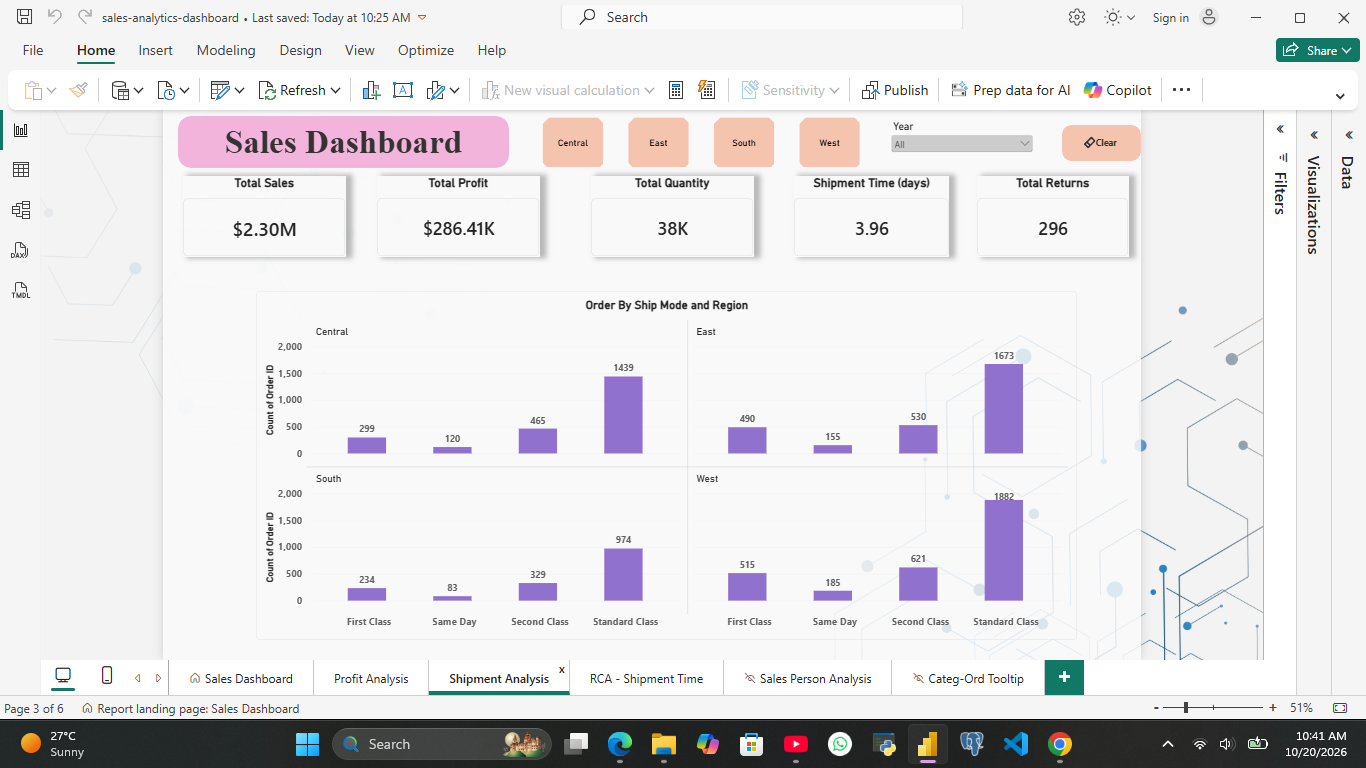

What the dashboard file says about the page in this screenshot:
{"tool":"powerbi","page":{"name":"Shipment Analysis","canvas":[1920,1080],"ordinal":2},"visuals":[{"type":"cardVisual","title":"Total Sales","fields":{"Data":["Sum(Orders.Sales)"]},"box":[39.7,130,319.6,158.7],"z":1000},{"type":"cardVisual","title":"Total Profit","fields":{"Data":["Sum(Orders.Profit)"]},"box":[421,130,319.6,158.7],"z":2000},{"type":"cardVisual","title":"Total Quantity","fields":{"Data":["Sum(Orders.Quantity)"]},"box":[839.8,130,319.6,158.7],"z":3000},{"type":"cardVisual","title":"Shipment Time (days)","fields":{"Data":["Avg(Orders.Shipment Time)"]},"box":[1238.7,130,304.2,158.7],"z":4000},{"type":"cardVisual","title":"Total Returns","fields":{"Data":["CountNonNull(Return_data.Order ID)"]},"box":[1598,130,297.6,158.7],"z":5000},{"type":"advancedSlicerVisual","fields":{"Values":["SalesPerson.Region"]},"box":[704.9,0,704.9,129.6],"z":6000},{"type":"slicer","title":"Year","fields":{"Values":["Orders.Order Date.Variation.Date Hierarchy.Year"]},"box":[1425.6,19.6,286.7,110],"z":7000},{"type":"shape","box":[29.5,11.8,650,102.1],"z":8000},{"type":"actionButton","box":[1765.3,29.5,155.1,70.7],"z":9000},{"type":"columnChart","title":"Order By Ship Mode and Region","fields":{"Category":["Orders.Ship Mode"],"Rows":["Orders.Region"],"Y":["CountNonNull(Orders.Order ID)"]},"box":[181.7,355.1,1612.4,685.4],"z":10001}]}

Visuals, with their boxes on the page's 1920x1080 design canvas (x1, y1, x2, y2). These are canvas units, not pixel positions in the 1366x768 screenshot, which may show the page scaled, cropped or inside an application window:
"Total Sales" cardVisual: [left=40, top=130, right=359, bottom=289]
"Total Profit" cardVisual: [left=421, top=130, right=741, bottom=289]
"Total Quantity" cardVisual: [left=840, top=130, right=1159, bottom=289]
"Shipment Time (days)" cardVisual: [left=1239, top=130, right=1543, bottom=289]
"Total Returns" cardVisual: [left=1598, top=130, right=1896, bottom=289]
advancedSlicerVisual - SalesPerson.Region: [left=705, top=0, right=1410, bottom=130]
"Year" slicer: [left=1426, top=20, right=1712, bottom=130]
shape: [left=30, top=12, right=680, bottom=114]
actionButton: [left=1765, top=30, right=1920, bottom=100]
"Order By Ship Mode and Region" columnChart: [left=182, top=355, right=1794, bottom=1040]
